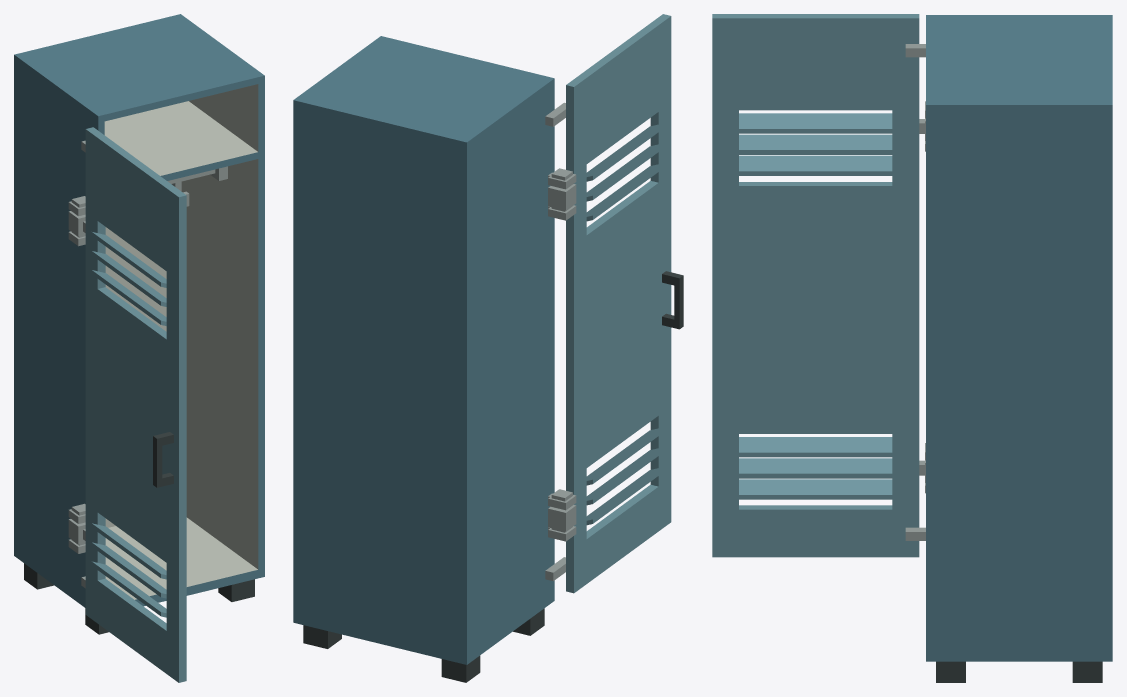
3 renders of one model, left to right at view 1: azimuth 30°, elevation 25°; view 2: azimuth 150°, elevation 25°; view 3: azimuth 270°, elevation 25°, orthographic. The views are drawn at different scales.
Visible parts, largest first — view 1: ContinuousFullHeightLongChamberShell, FixedOpenThickLouverDoor, Window_1_OutwardSlopedLouver_1, Window_1_OutwardSlopedLouver_2, Window_1_OutwardSlopedLouver_3, Window_2_OutwardSlopedLouver_2, Window_2_OutwardSlopedLouver_1, Window_2_OutwardSlopedLouver_3, FullOpenDoorGrip, FullFlatFoot_2_1; view 2: ContinuousFullHeightLongChamberShell, FixedOpenThickLouverDoor, Window_1_OutwardSlopedLouver_1, Window_1_OutwardSlopedLouver_3, Window_2_OutwardSlopedLouver_2, Window_1_OutwardSlopedLouver_2, Window_2_OutwardSlopedLouver_1, Window_2_OutwardSlopedLouver_3, FullOpenDoorGrip, FullFlatFoot_1_2, FullFlatFoot_2_2, Hinge_2_CenterTrueBoredEar (+1 smaller); view 3: ContinuousFullHeightLongChamberShell, FixedOpenThickLouverDoor, Window_1_OutwardSlopedLouver_1, Window_1_OutwardSlopedLouver_2, Window_2_OutwardSlopedLouver_3, Window_1_OutwardSlopedLouver_3, Window_2_OutwardSlopedLouver_1, Window_2_OutwardSlopedLouver_2, FullFlatFoot_2_2, FullFlatFoot_2_1.
Boxes of the visible parts, x1,y1,x2,y2 form: ContinuousFullHeightLongChamberShell: (14,14,264,607); FixedOpenThickLouverDoor: (85,127,186,682); Window_1_OutwardSlopedLouver_1: (91,561,166,617); Window_1_OutwardSlopedLouver_2: (91,542,166,598); Window_1_OutwardSlopedLouver_3: (91,523,166,579); Window_2_OutwardSlopedLouver_2: (91,251,166,306); Window_2_OutwardSlopedLouver_1: (91,270,166,325); Window_2_OutwardSlopedLouver_3: (91,232,166,287); FullOpenDoorGrip: (153,432,173,487); FullFlatFoot_2_1: (218,579,254,601); ContinuousFullHeightLongChamberShell: (293,36,554,664); FixedOpenThickLouverDoor: (566,14,671,593); Window_1_OutwardSlopedLouver_1: (586,466,664,525); Window_1_OutwardSlopedLouver_3: (586,427,664,485); Window_2_OutwardSlopedLouver_2: (586,143,664,201); Window_1_OutwardSlopedLouver_2: (586,447,664,505); Window_2_OutwardSlopedLouver_1: (586,163,664,221); Window_2_OutwardSlopedLouver_3: (586,123,664,181); FullOpenDoorGrip: (662,271,683,329); FullFlatFoot_1_2: (441,655,480,682); FullFlatFoot_2_2: (303,625,341,648); Hinge_2_CenterTrueBoredEar: (548,184,576,210); ContinuousFullHeightLongChamberShell: (926,15,1112,661); FixedOpenThickLouverDoor: (712,14,919,557); Window_1_OutwardSlopedLouver_1: (739,479,892,499); Window_1_OutwardSlopedLouver_2: (739,458,892,478); Window_2_OutwardSlopedLouver_3: (739,113,892,133); Window_1_OutwardSlopedLouver_3: (739,437,892,457); Window_2_OutwardSlopedLouver_1: (739,155,892,175); Window_2_OutwardSlopedLouver_2: (739,134,892,154); FullFlatFoot_2_2: (1072,661,1102,682); FullFlatFoot_2_1: (936,661,965,682).
Bounding box in the file's own units: 0.765 × 1.92 × 1.2.
